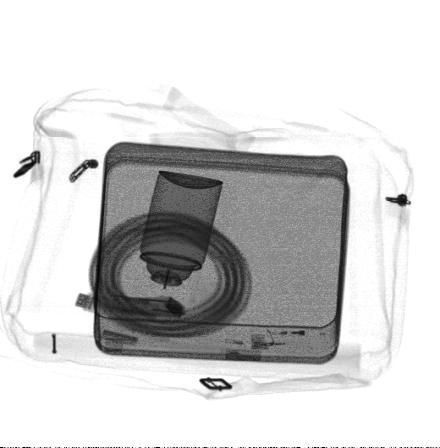Lighter: (116, 293, 186, 319)
Sprayer: (132, 171, 224, 308)
